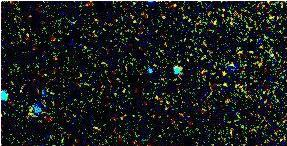star: (208, 60, 238, 90)
